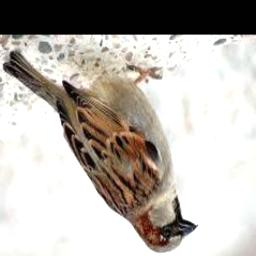Sparrow: (3, 51, 198, 252)
